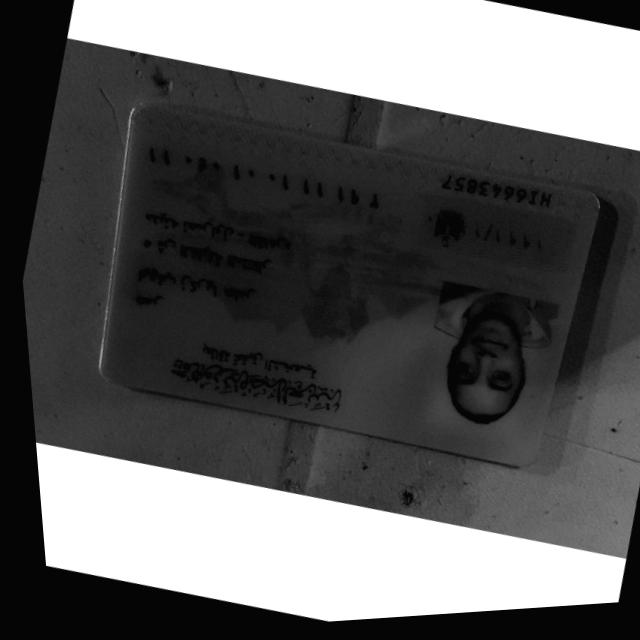front: (66, 60, 611, 505)
